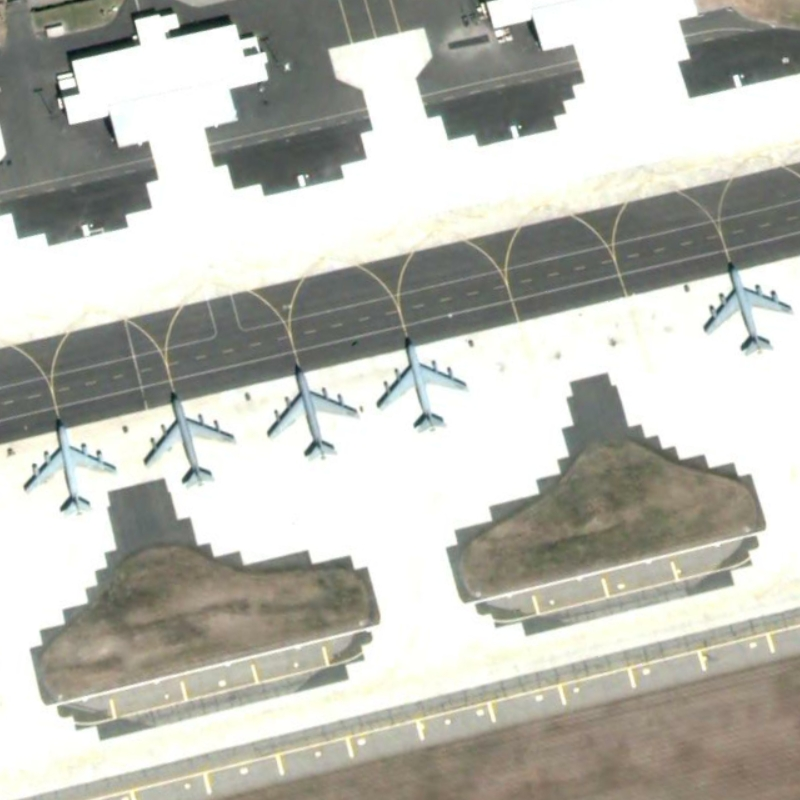A14: (256, 355, 365, 470), (373, 327, 478, 442), (21, 411, 127, 520), (703, 250, 797, 361), (142, 383, 236, 493)
